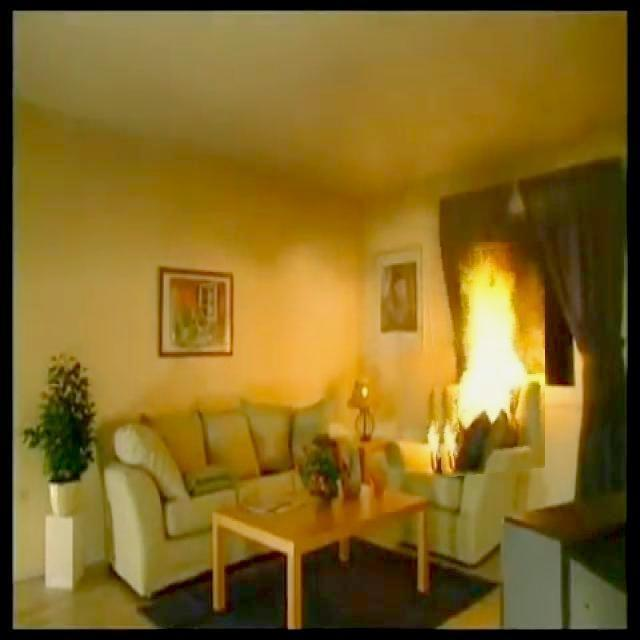fire: (427, 220, 578, 474)
